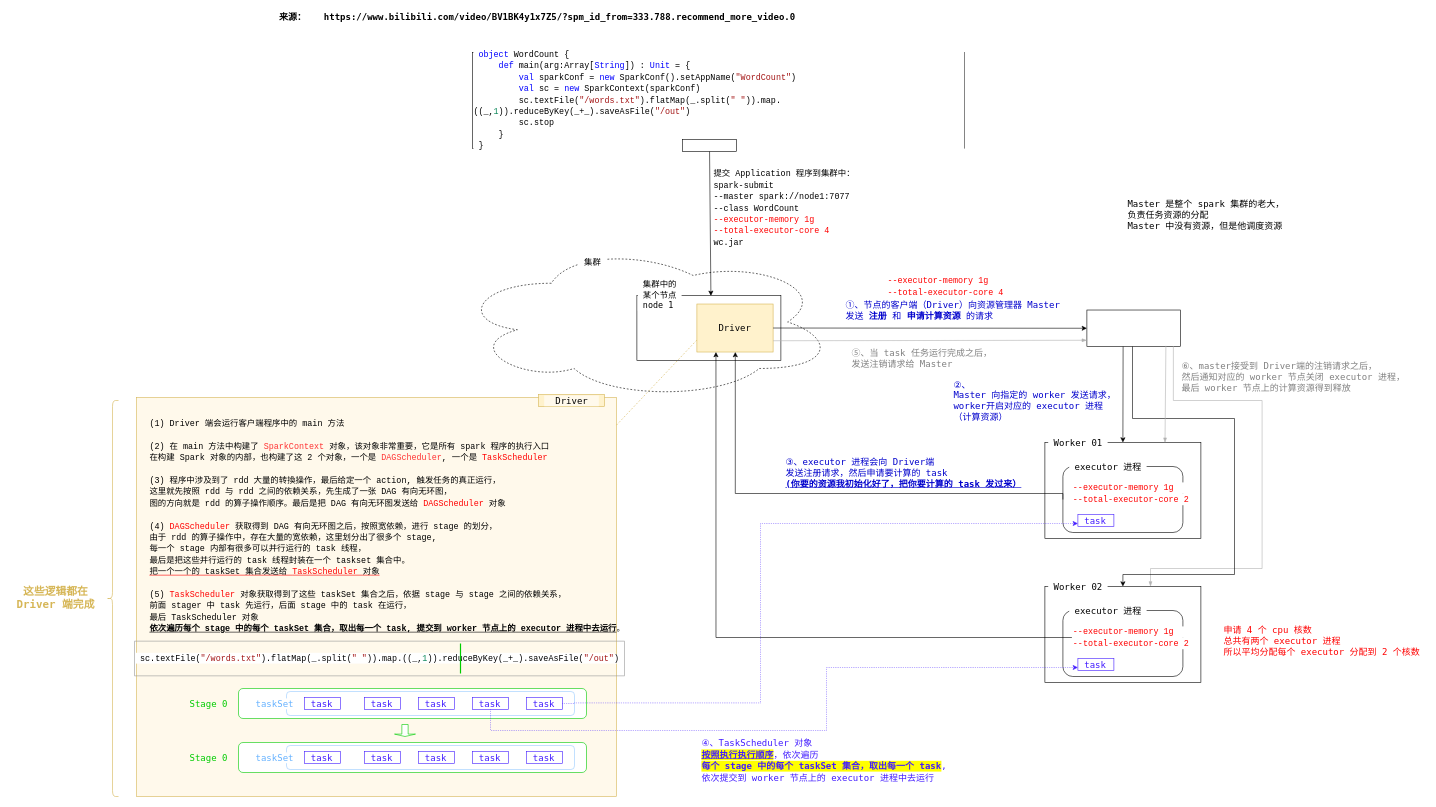
Some shapes in this 1436 by 807 pixel diagram are drawn without their labels. Here are the shapes that lost their labels. From the top down, the centre of each, then its label:
point 709,145: wc.jar
point 1133,327: 资源管理器 master
